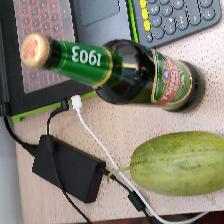gua: (122, 139, 220, 199)
